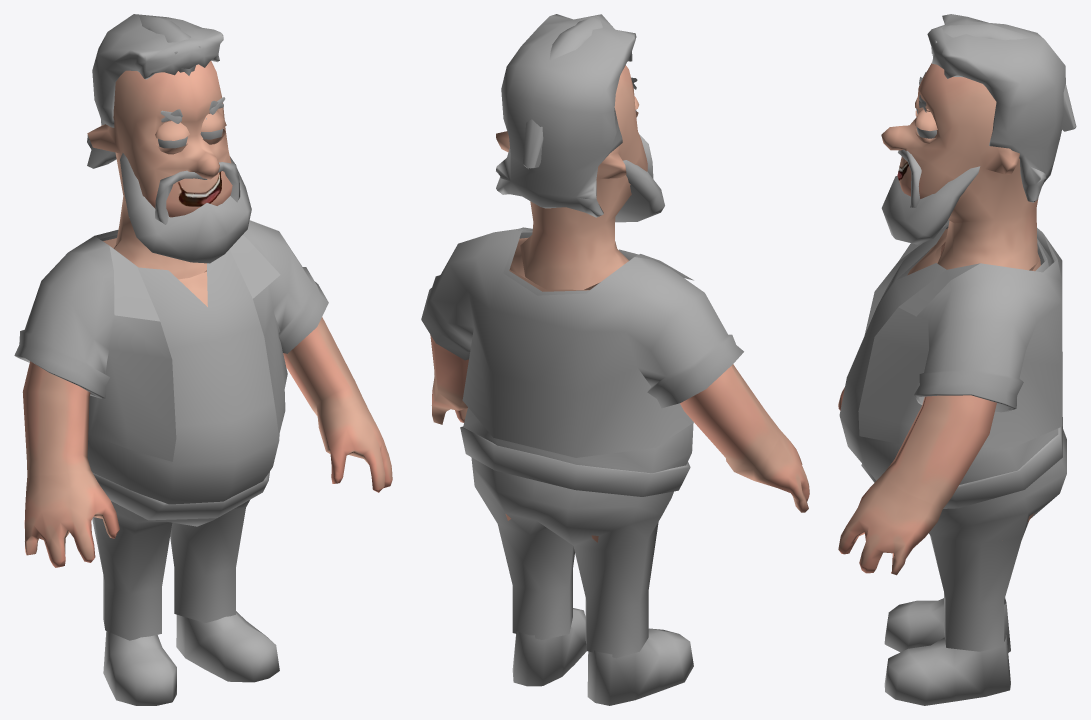
The model's file is man01J.FBX.
3 views of the same model, side by side, from view 1: azimuth 30°, elevation 25°; view 2: azimuth 150°, elevation 25°; view 3: azimuth 270°, elevation 25° (orthographic). The views are drawn at different scales.
Visible parts, largest first — view 1: man3, man5, man1, man4; view 2: man3, man5, man1, man4; view 3: man3, man5, man1, man4.
Boxes of the visible parts, bbox=[...] form: man3: bbox=[14, 220, 328, 705]; man5: bbox=[22, 61, 392, 567]; man1: bbox=[87, 14, 240, 224]; man4: bbox=[120, 16, 251, 263]; man3: bbox=[421, 227, 743, 705]; man5: bbox=[430, 65, 809, 542]; man1: bbox=[496, 14, 653, 217]; man4: bbox=[523, 17, 664, 222]; man3: bbox=[839, 220, 1066, 705]; man5: bbox=[838, 63, 1040, 575]; man1: bbox=[898, 14, 1065, 207]; man4: bbox=[881, 24, 1076, 244].
Bounding box in the file's own units: 118 × 198 × 66.24.
5 materials, 1 textured.
